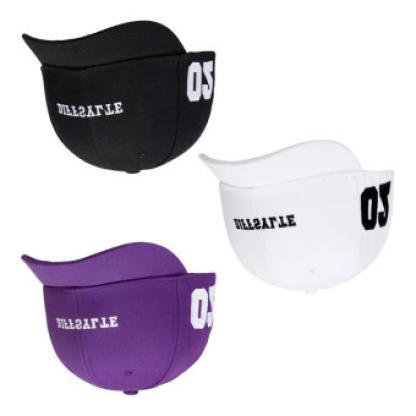cap: (14, 13, 221, 180), (196, 135, 402, 296), (18, 236, 220, 397)
